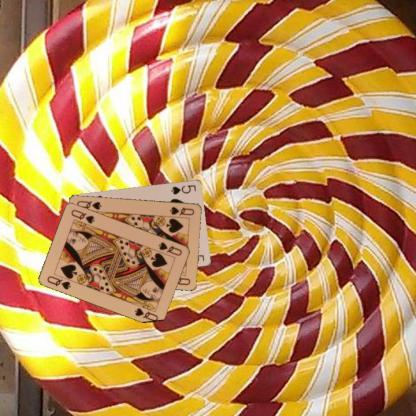5s: (169, 182, 197, 195)
Qs: (156, 239, 183, 257), (45, 273, 72, 291), (167, 204, 195, 216)
